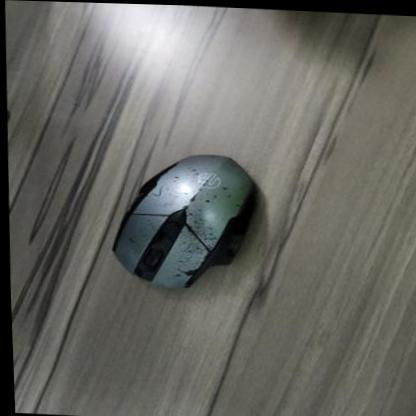mouserotation: (102, 147, 257, 290)
